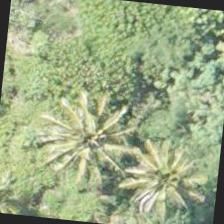Kelapa_Sawit: (44, 90, 142, 190), (116, 132, 216, 223), (0, 155, 43, 218)
